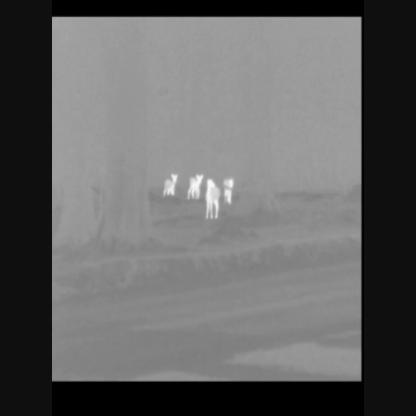rehkitze: (207, 178, 220, 219), (186, 175, 204, 202), (162, 175, 180, 198), (224, 178, 235, 208)
